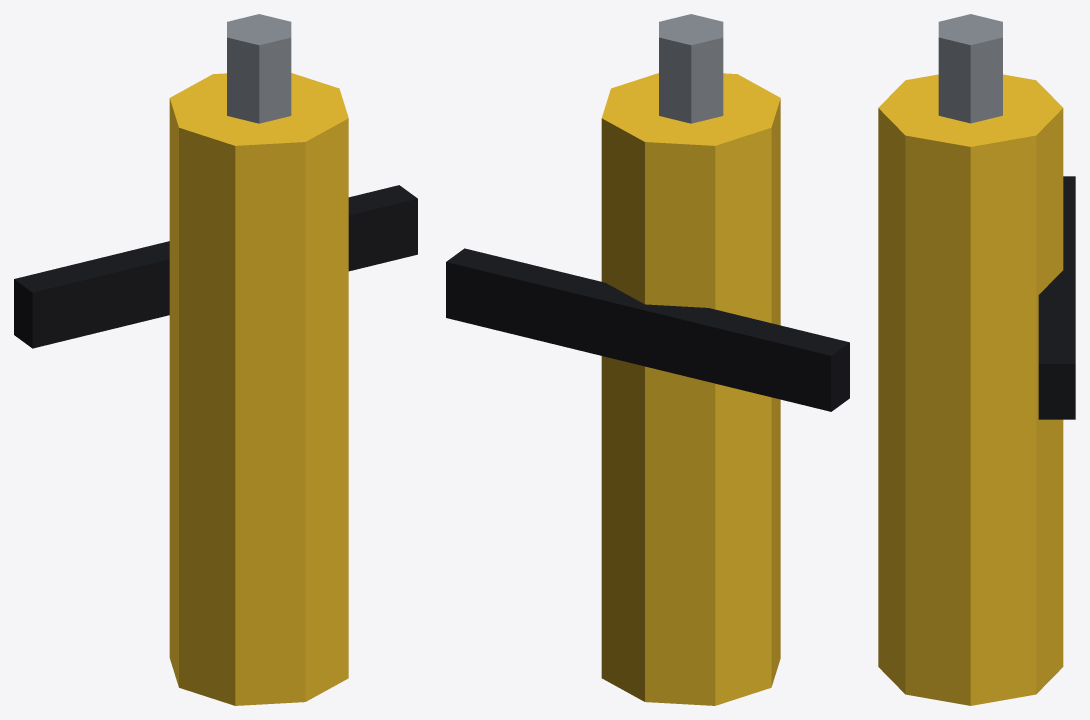
File: acc_scuba.glb
3 renders of one model, left to right at view 1: azimuth 30°, elevation 25°; view 2: azimuth 150°, elevation 25°; view 3: azimuth 270°, elevation 25°, orthographic.
Visible parts, largest first — view 1: acc_scuba__mesh; view 2: acc_scuba__mesh; view 3: acc_scuba__mesh.
Part boxes in pixels (left/top/right/bottom): acc_scuba__mesh: left=14, top=14, right=417, bottom=705; acc_scuba__mesh: left=446, top=14, right=849, bottom=705; acc_scuba__mesh: left=878, top=14, right=1075, bottom=705.
Bounding box in the file's own units: 0.36 × 0.57 × 0.16.
